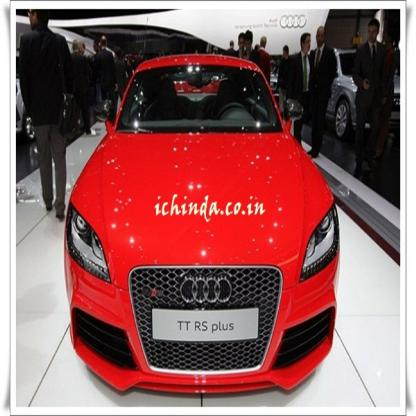Vehicle: (64, 52, 340, 392)
